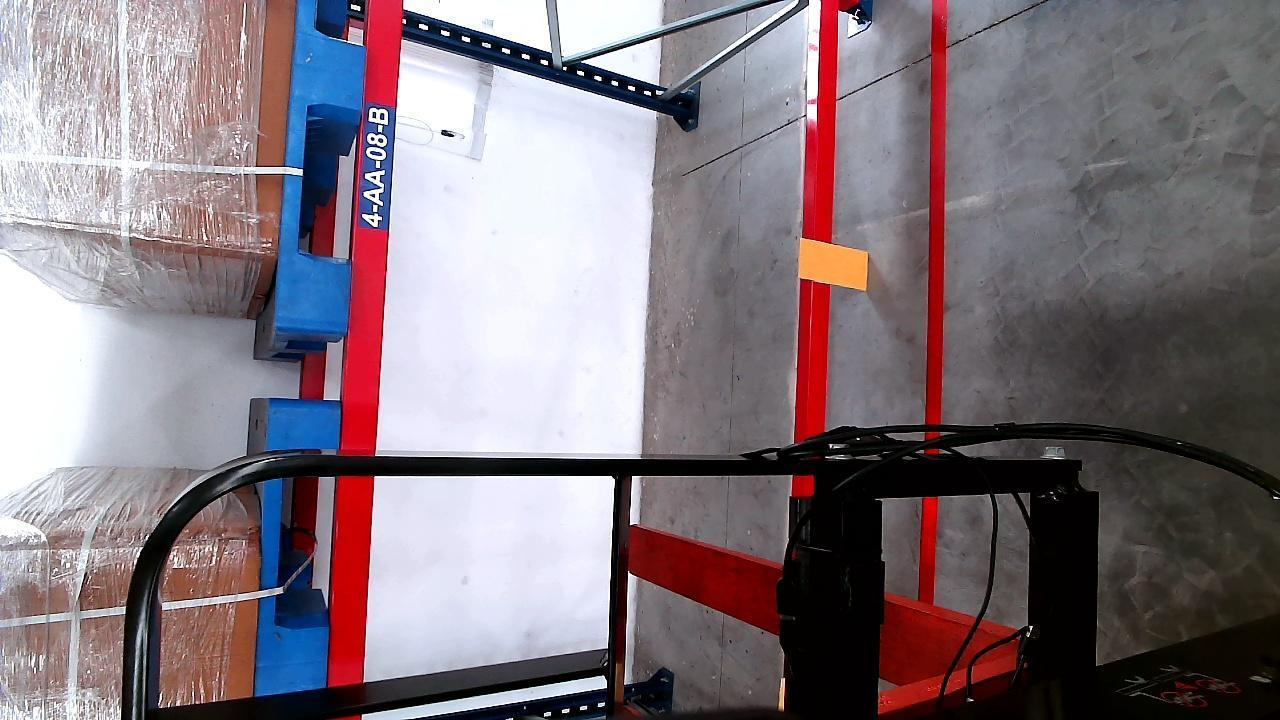h_rack: (331, 0, 401, 683), (796, 0, 841, 433)
orange_strip: (801, 240, 869, 289)
red_line: (919, 0, 950, 609)
small_pallet: (278, 0, 366, 333), (259, 412, 341, 689)
